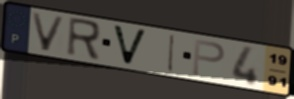4: (230, 43, 261, 88)
I: (166, 33, 178, 74)
P: (190, 37, 227, 78)
R: (64, 16, 103, 63)
V: (111, 23, 150, 68), (29, 10, 68, 54)
